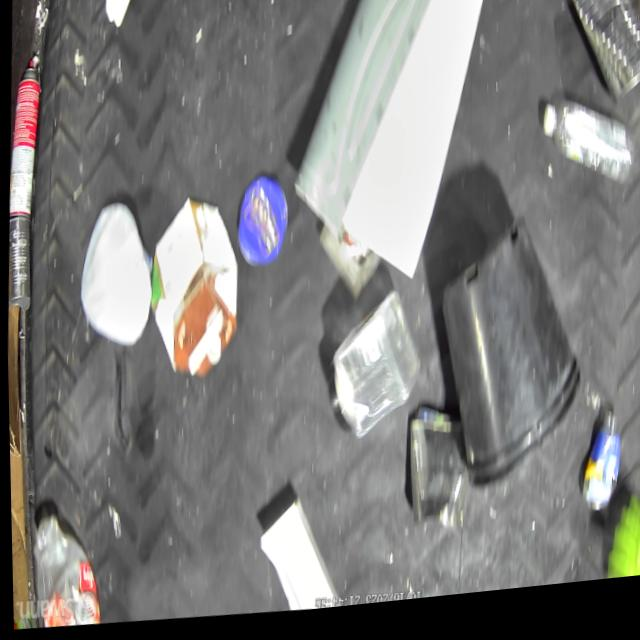can: (561, 0, 640, 123), (401, 410, 468, 545), (5, 56, 42, 216), (4, 212, 32, 309)
milk_jug: (72, 198, 154, 354)
plastic_bottle: (537, 102, 634, 202), (26, 507, 102, 631)
